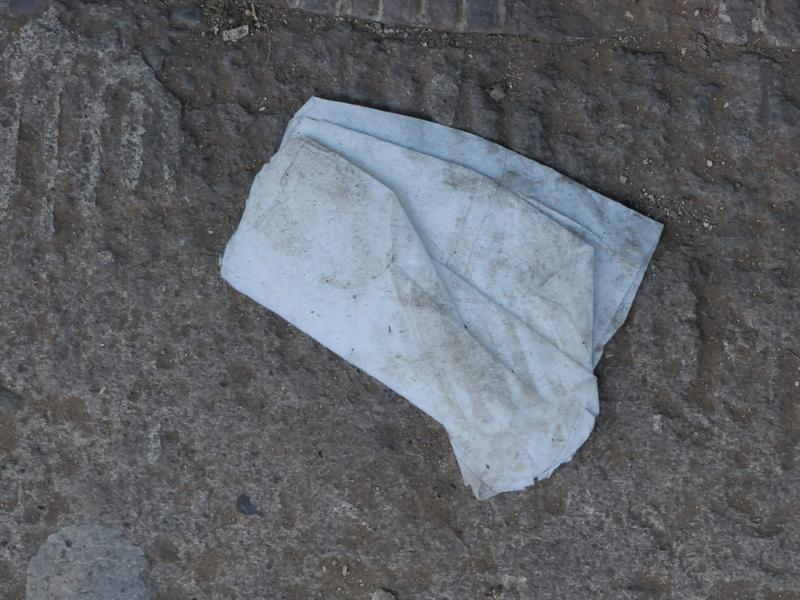papel: (219, 96, 663, 503)
